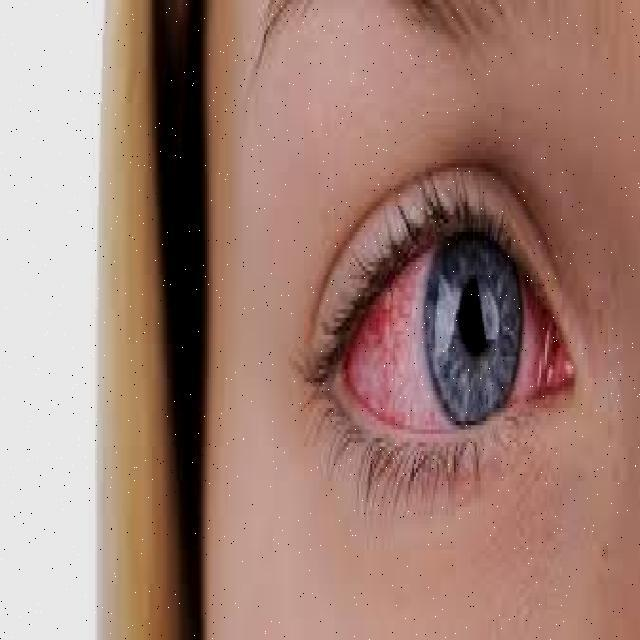Conjunctivitis: (332, 249, 578, 429)
